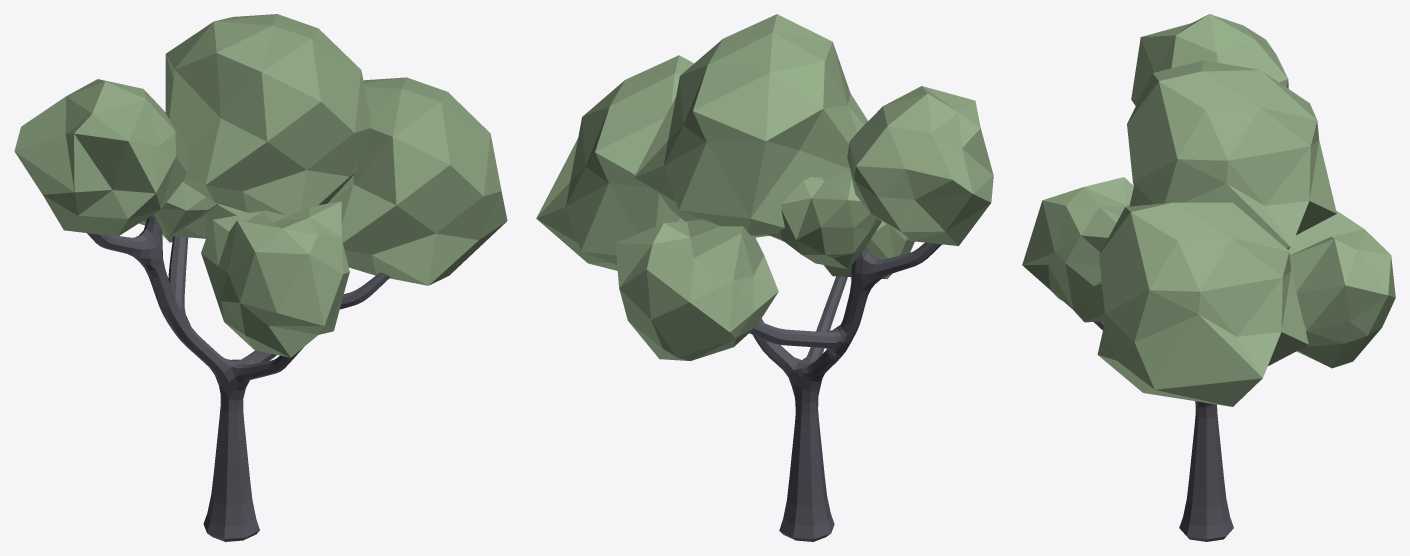
File: forest_tree_01.glb
3 views of the same model, side by side, from view 1: azimuth 30°, elevation 25°; view 2: azimuth 150°, elevation 25°; view 3: azimuth 270°, elevation 25° (orthographic). The views are drawn at different scales.
Visible parts, largest first — view 1: tree; view 2: tree; view 3: tree.
Boxes of the visible parts, x1,y1,x2,y2 form: tree: (14,14,507,541); tree: (536,14,993,541); tree: (1022,14,1395,541).
Bounding box in the file's own units: 10.14 × 10.99 × 7.74.
1 material, 1 textured.
